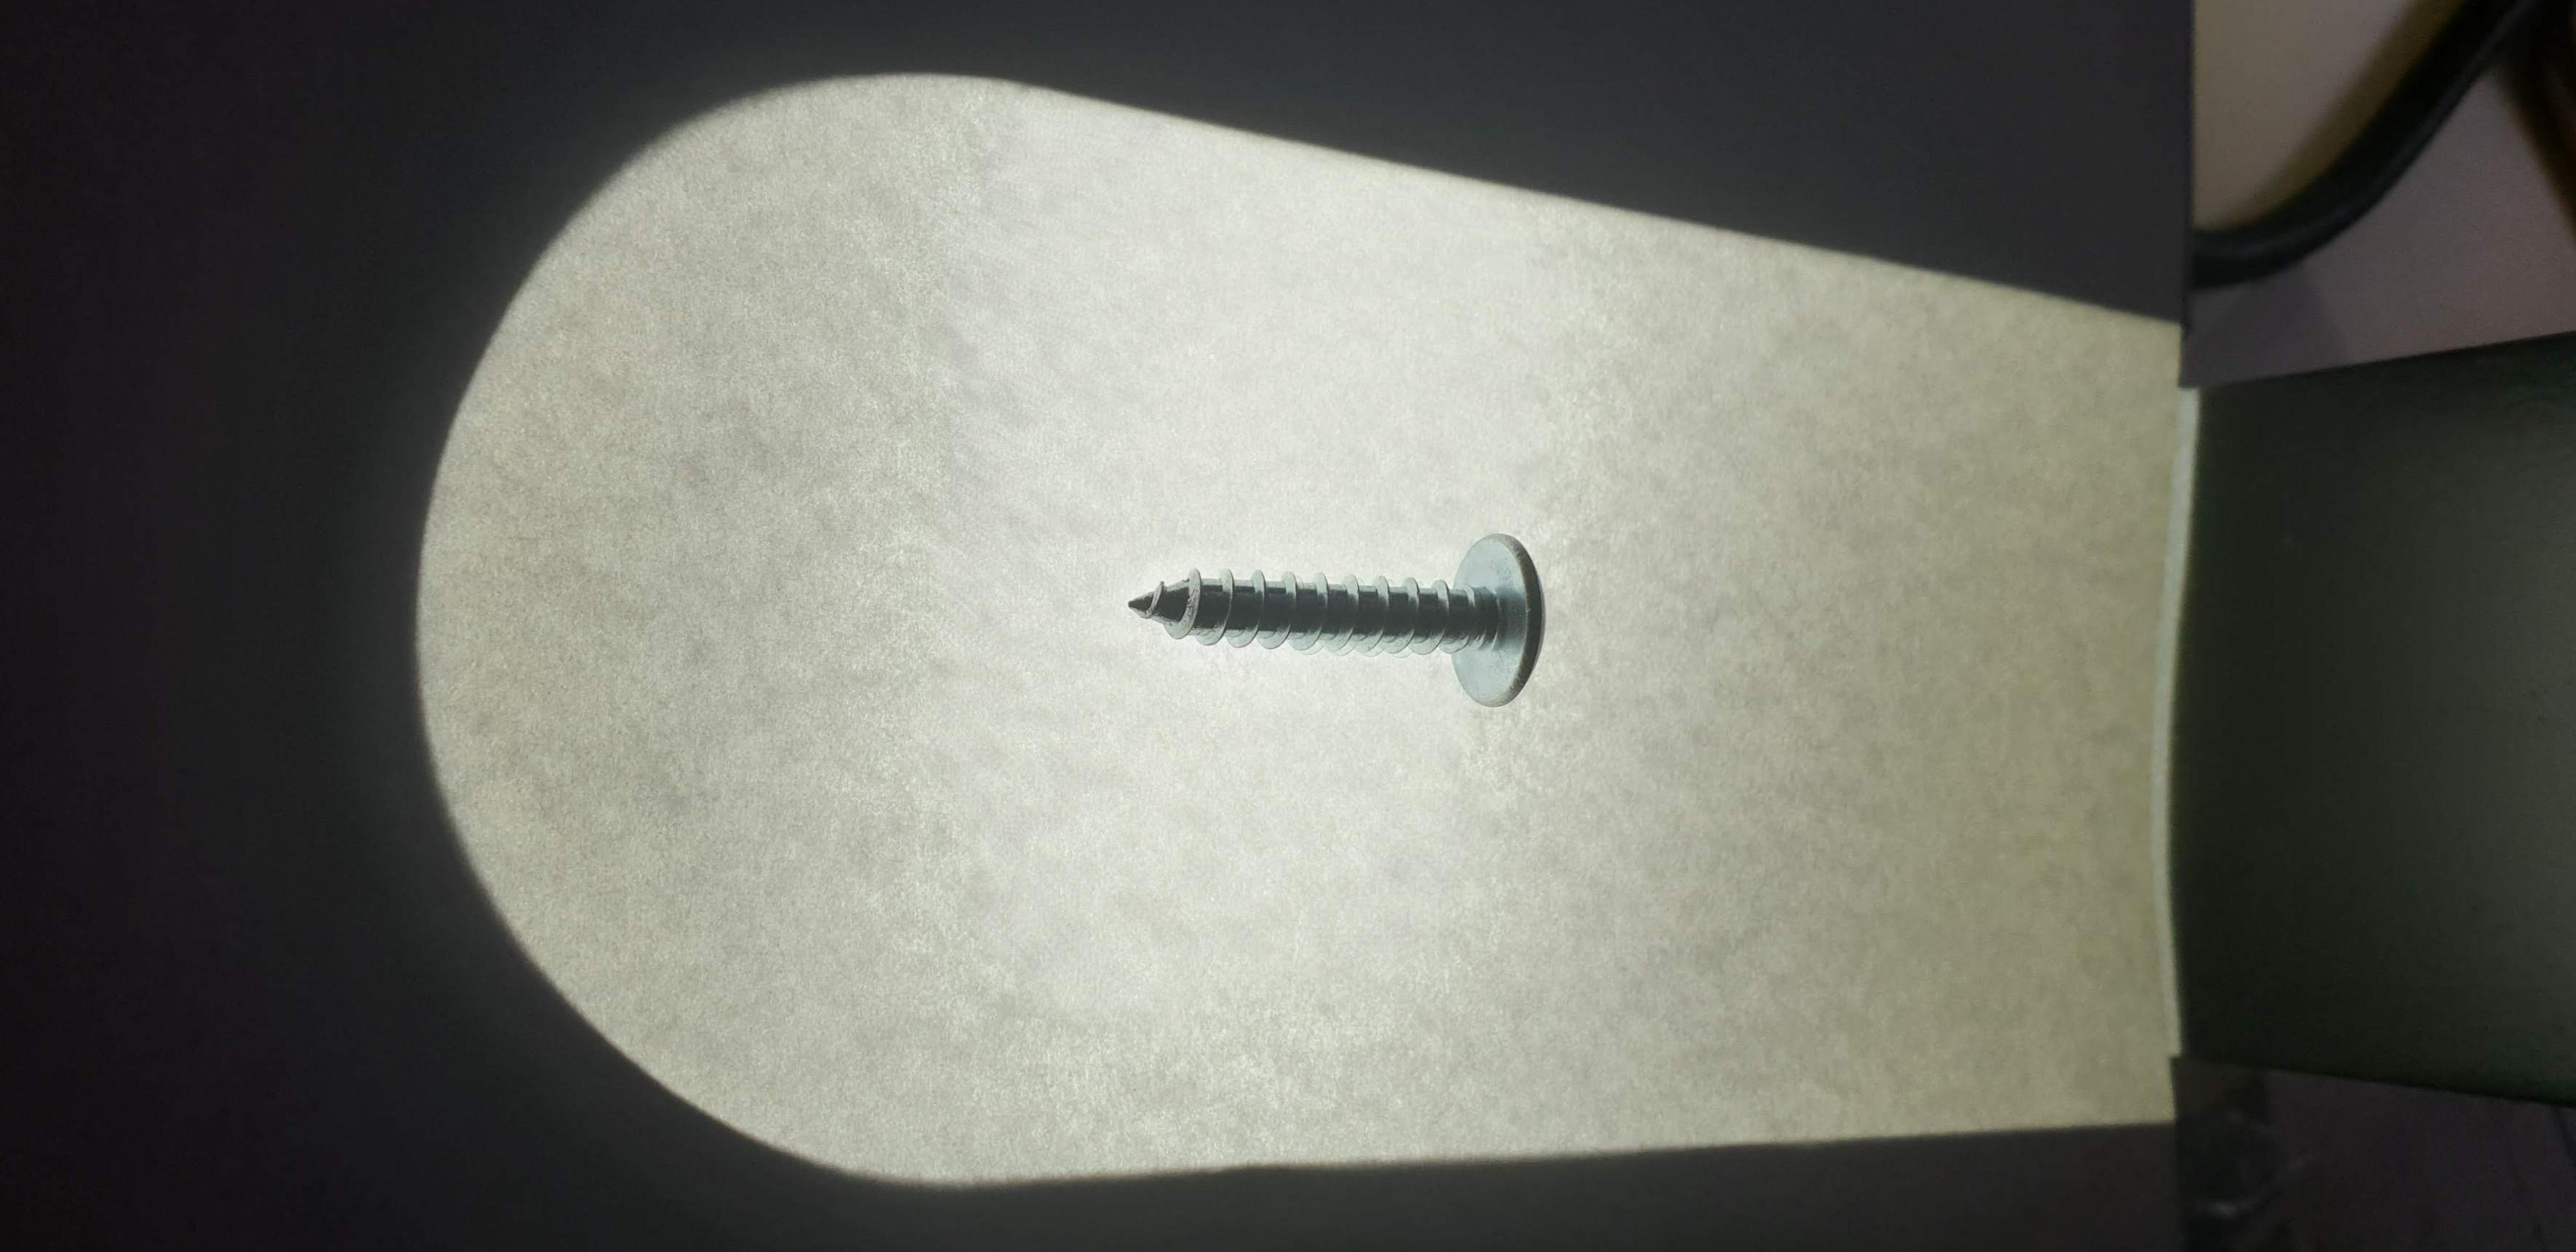S002: (1096, 490, 1589, 749)
